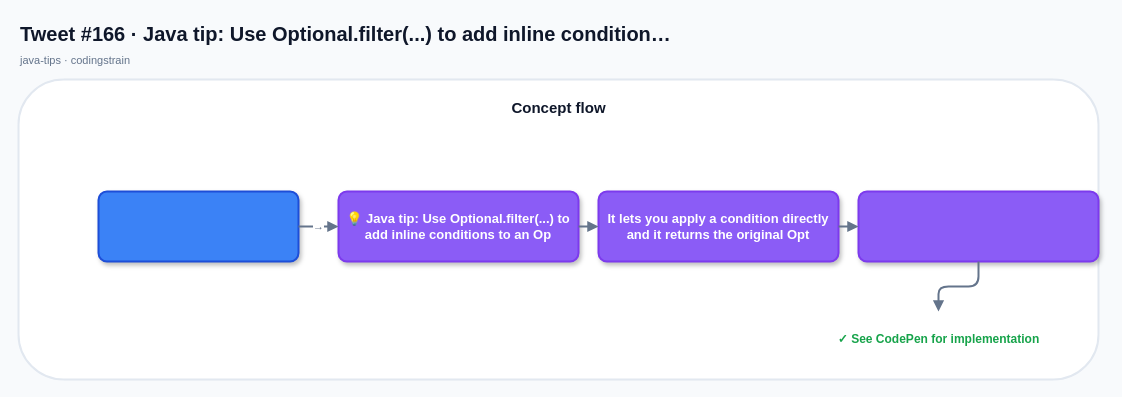
This 1122x397 diagram has some shape labels left out. The shapes that lost their labels are listed below. From the top down, each one's centre as x and y in pixels, then its label:
At (199,227): "Problem / context".
At (979,227): "#Java #JavaDev".
